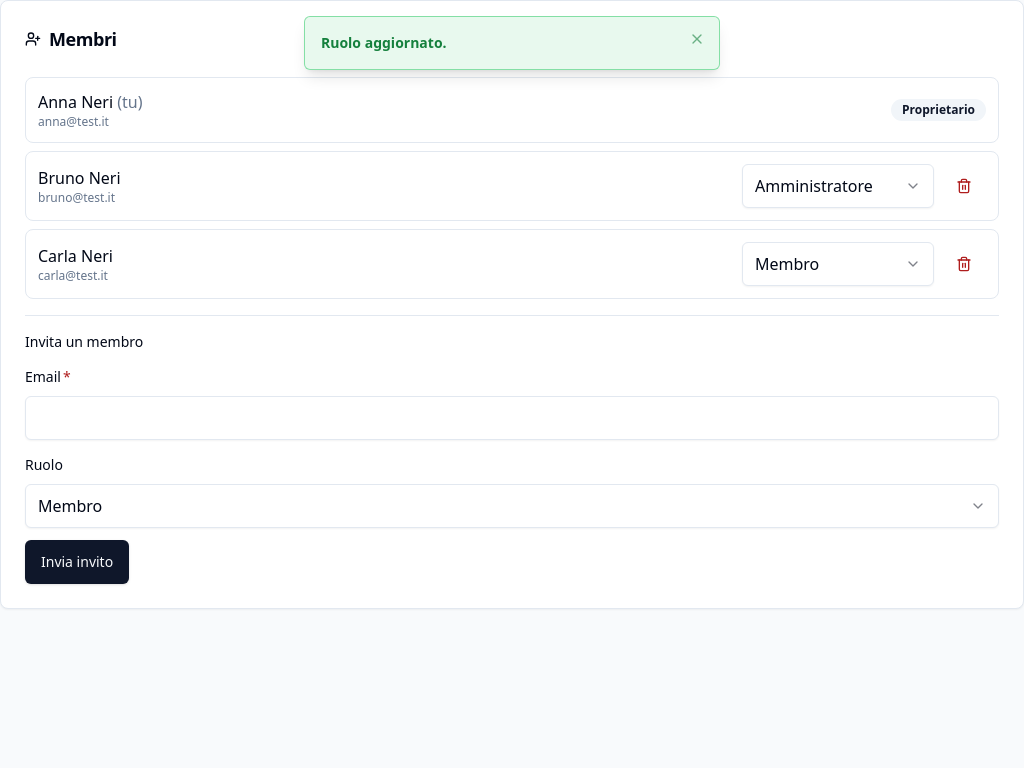
Test: MembersCard — cambio di ruolo › il testo di conferma cambia con la direzione del cambio
Click the dropdown named "Cambia il ruolo di Carla Neri": (838, 264) top-left (742, 242), bottom-right (934, 286)
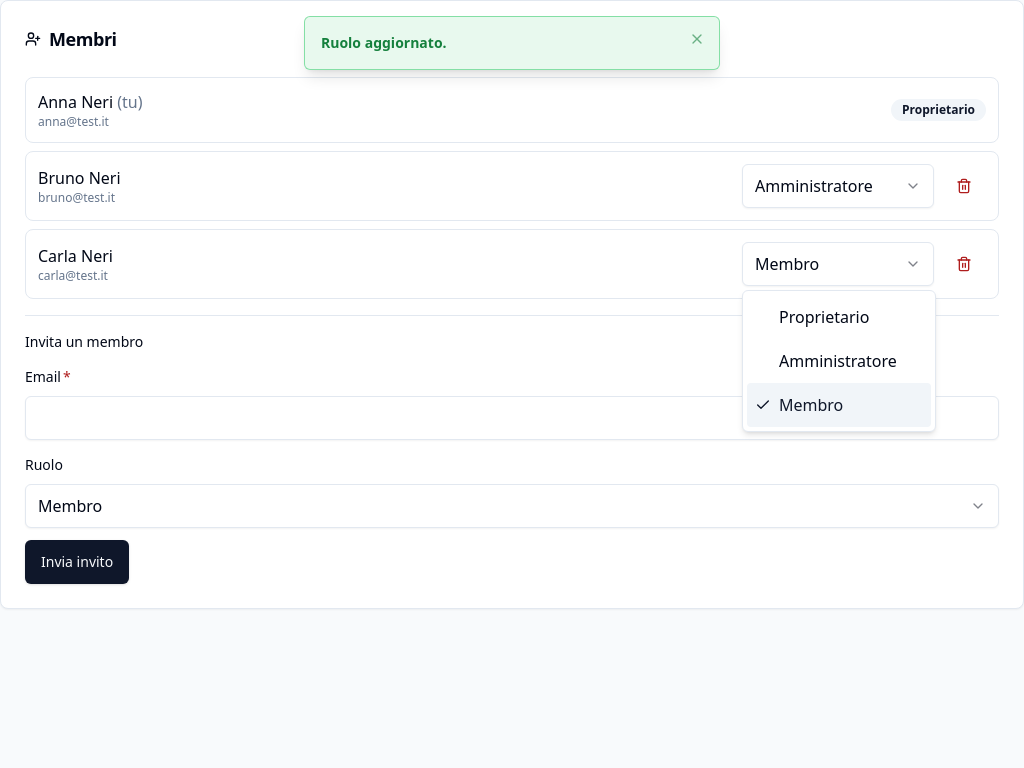
Click the option "Proprietario": (824, 317) top-left (779, 306), bottom-right (869, 328)
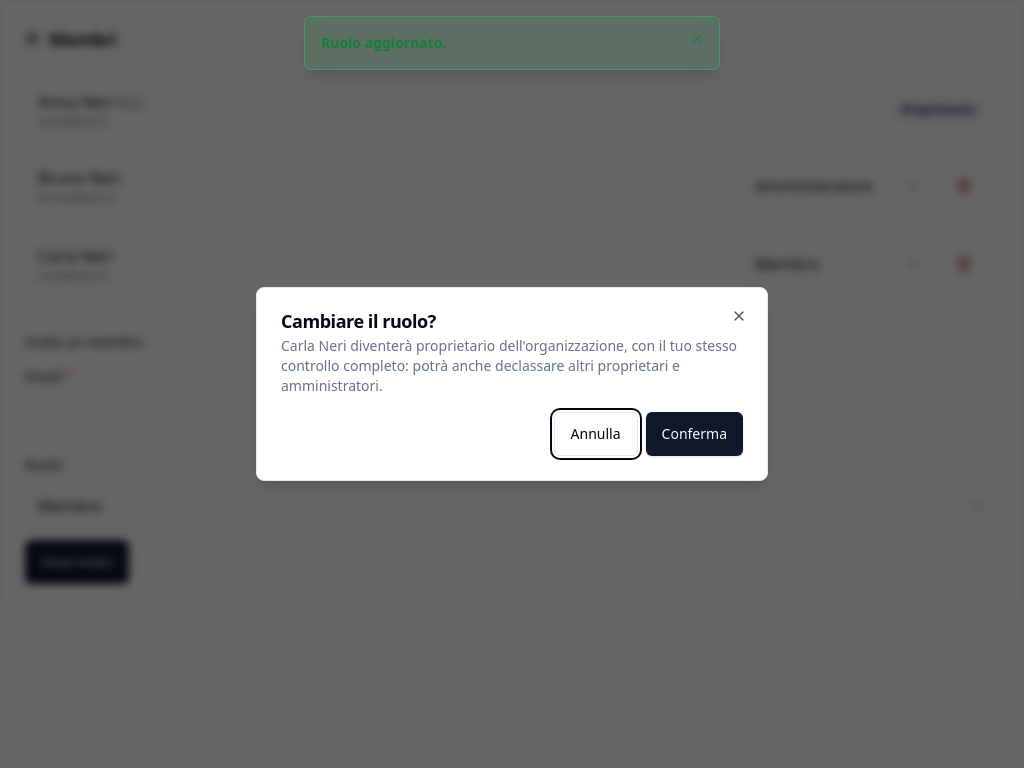
Result: the dialog shows "Carla Neri diventerà proprietario" at top-left (281, 336), bottom-right (737, 395)
Click the button "Annulla": (596, 434) top-left (554, 412), bottom-right (638, 456)
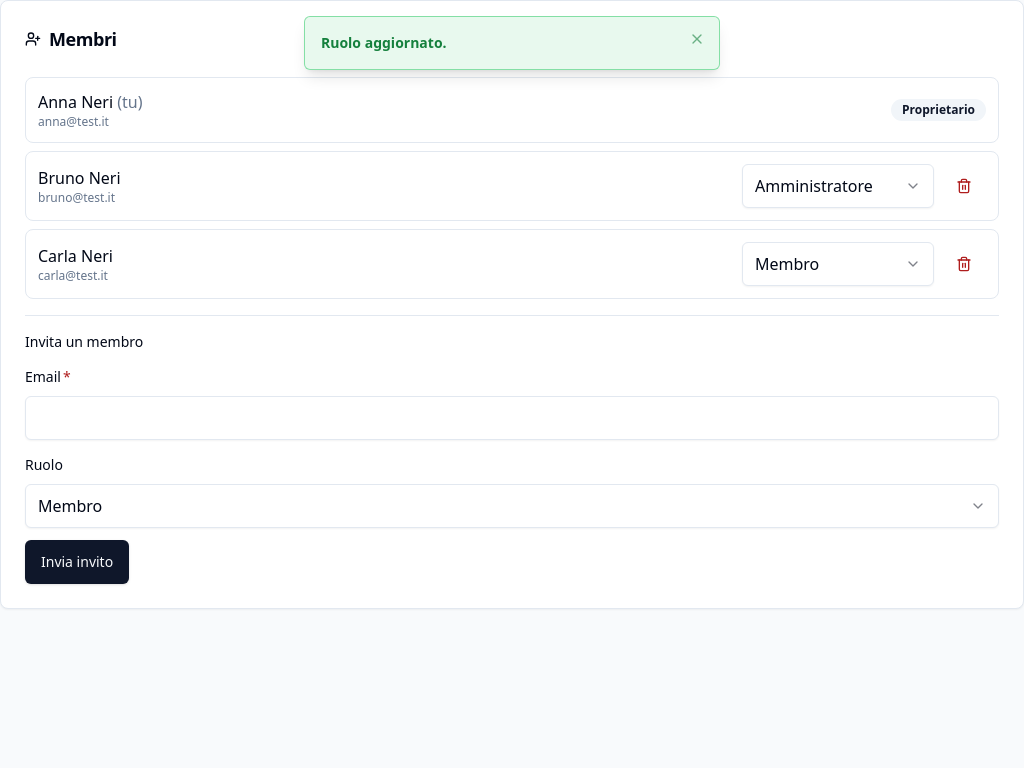
Result: the dialog is gone
Click the dropdown named "Cambia il ruolo di Carla Neri": (838, 264) top-left (742, 242), bottom-right (934, 286)
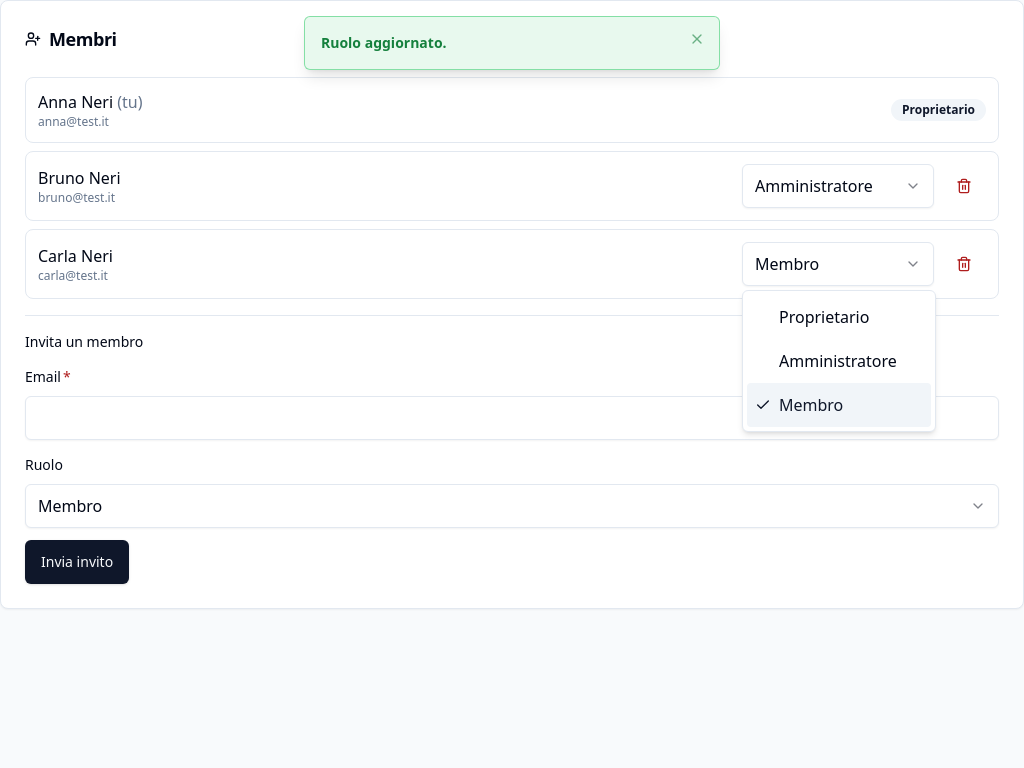
Click the option "Amministratore": (838, 361) top-left (779, 350), bottom-right (897, 372)
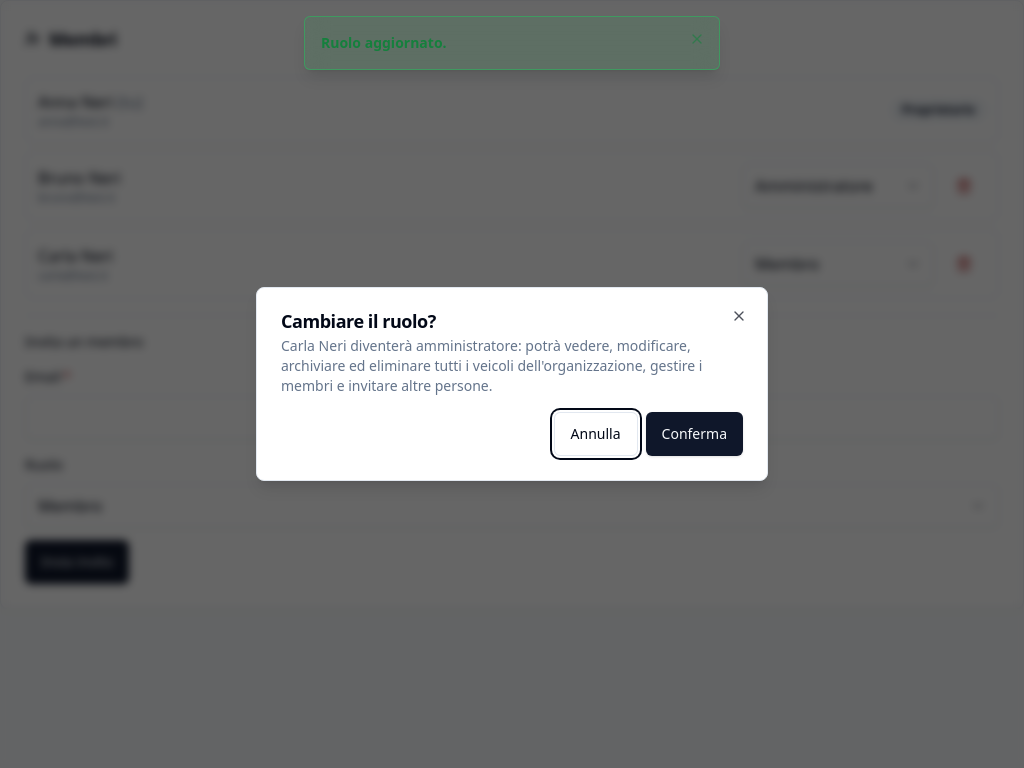
Result: the dialog shows "Carla Neri diventerà amministratore" at top-left (281, 336), bottom-right (702, 395)
